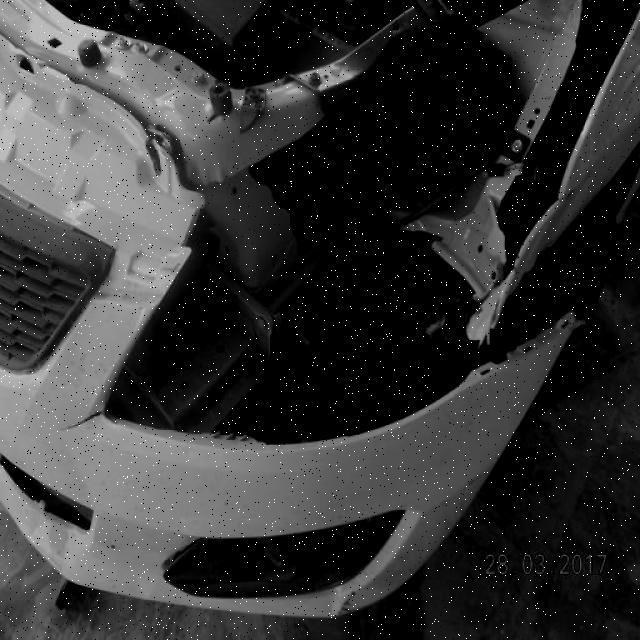car damage: (64, 3, 587, 456), (475, 145, 636, 381)
